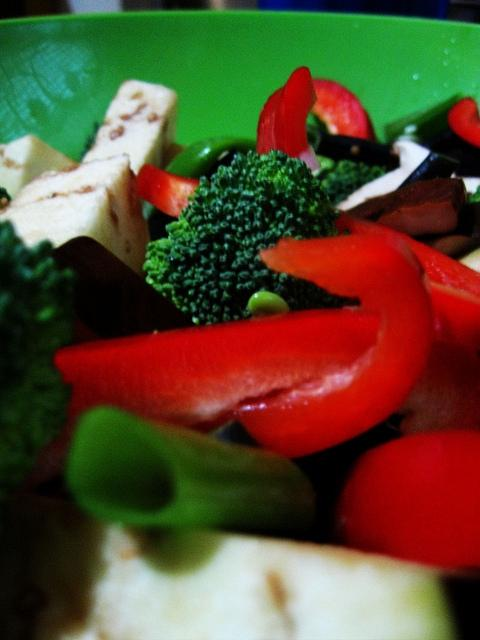bell pepper: (42, 308, 382, 475), (232, 232, 436, 460), (338, 209, 478, 351), (341, 428, 480, 568), (147, 136, 257, 241), (312, 78, 375, 140), (274, 68, 317, 158), (135, 168, 199, 216), (446, 98, 480, 148)
broccoli: (143, 148, 360, 326), (0, 220, 78, 503), (320, 160, 386, 206)
green onion: (66, 406, 314, 535), (142, 136, 258, 242), (384, 90, 468, 142)
